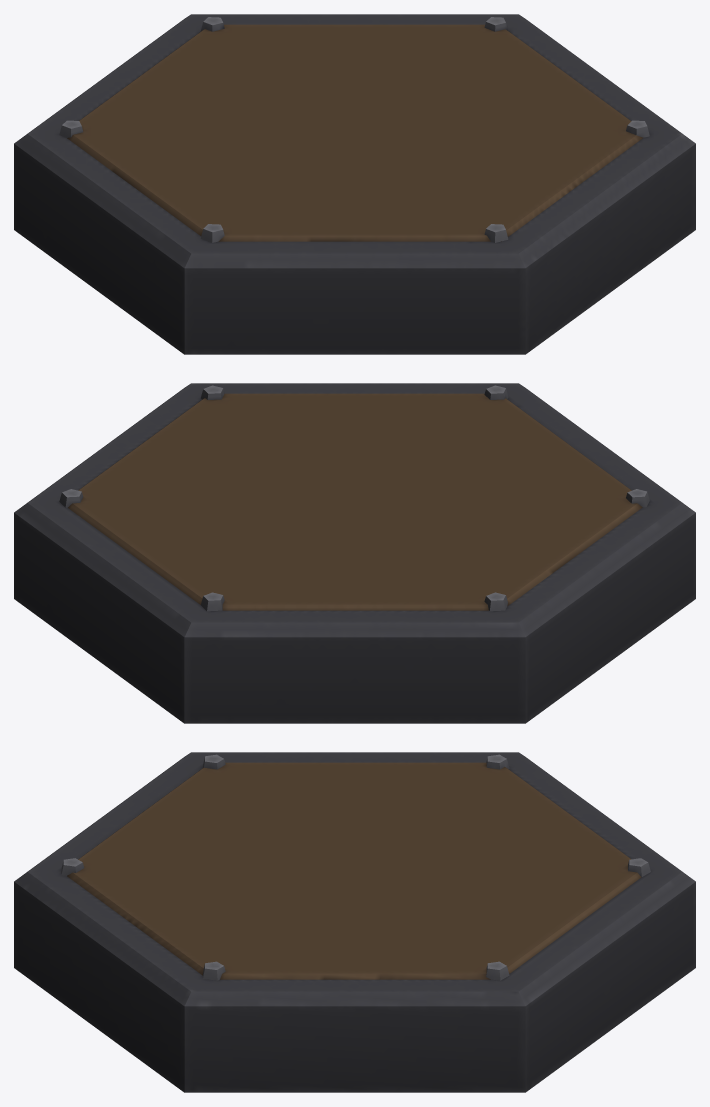
The model's file is tile_hex_metal.glb.
3 views of the same model, one above another, from view 1: azimuth 30°, elevation 25°; view 2: azimuth 150°, elevation 25°; view 3: azimuth 270°, elevation 25° (orthographic).
Parts seen in each view (by area): view 1: tile_hex_metal; view 2: tile_hex_metal; view 3: tile_hex_metal.
Part boxes in pixels (x1,y1,x2,y2): tile_hex_metal: [14, 14, 695, 354]; tile_hex_metal: [14, 383, 695, 723]; tile_hex_metal: [14, 752, 695, 1092].
Bounding box in the file's own units: 1.12 × 0.22 × 1.29.
1 material, 1 textured.
